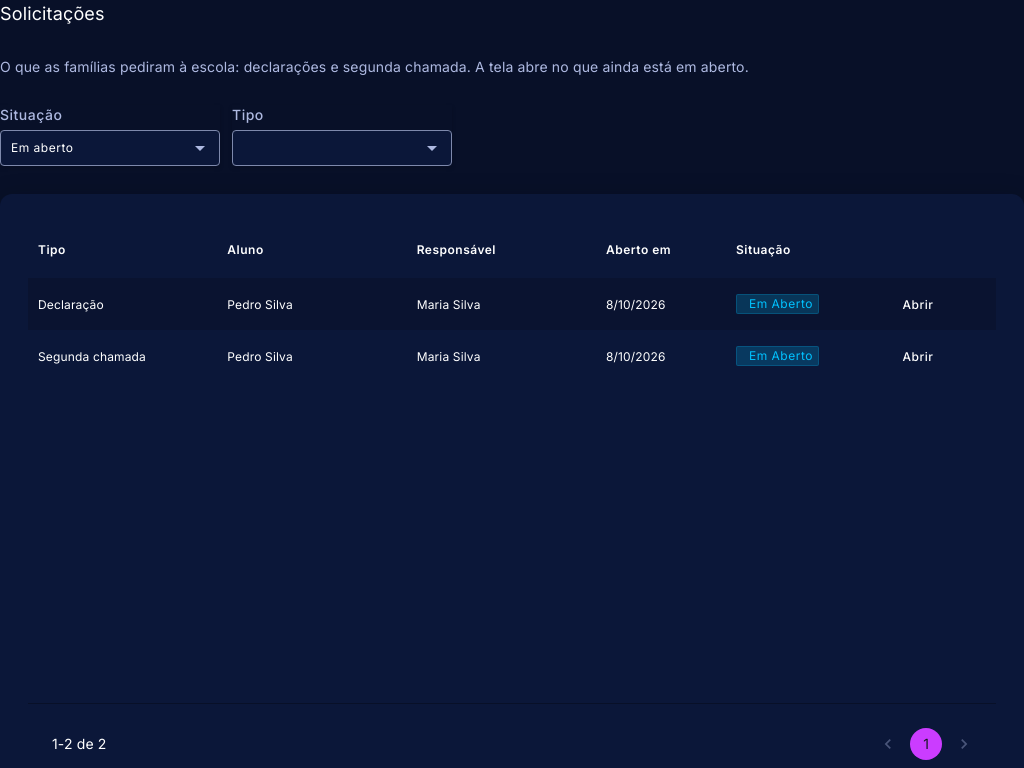
it: Solicitações queue › will not let a refusal go out with no reason
Step 1. Click the button "Abrir" in the row of "Declaração" → (918, 304), box [886,287,950,322]
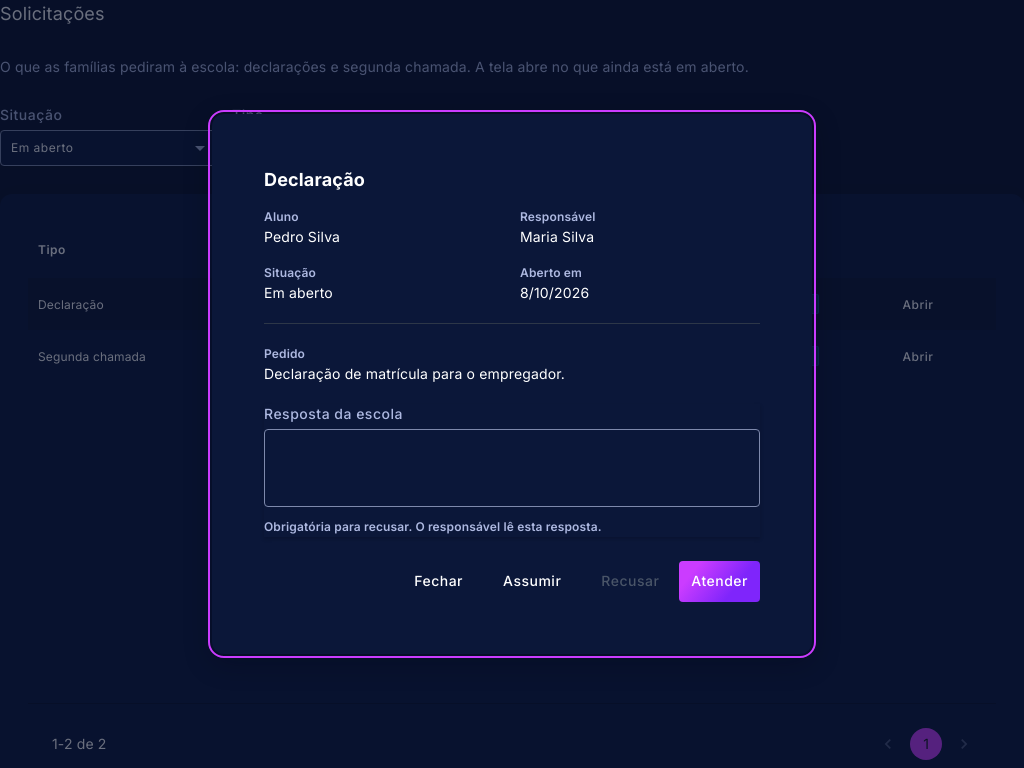
Now the button "Recusar" is disabled, box [589,561,671,602]
